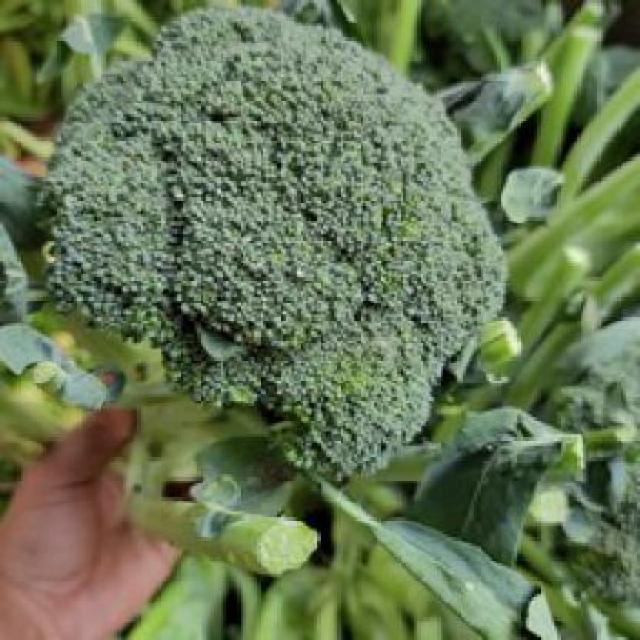broccoli: (37, 4, 506, 538)
